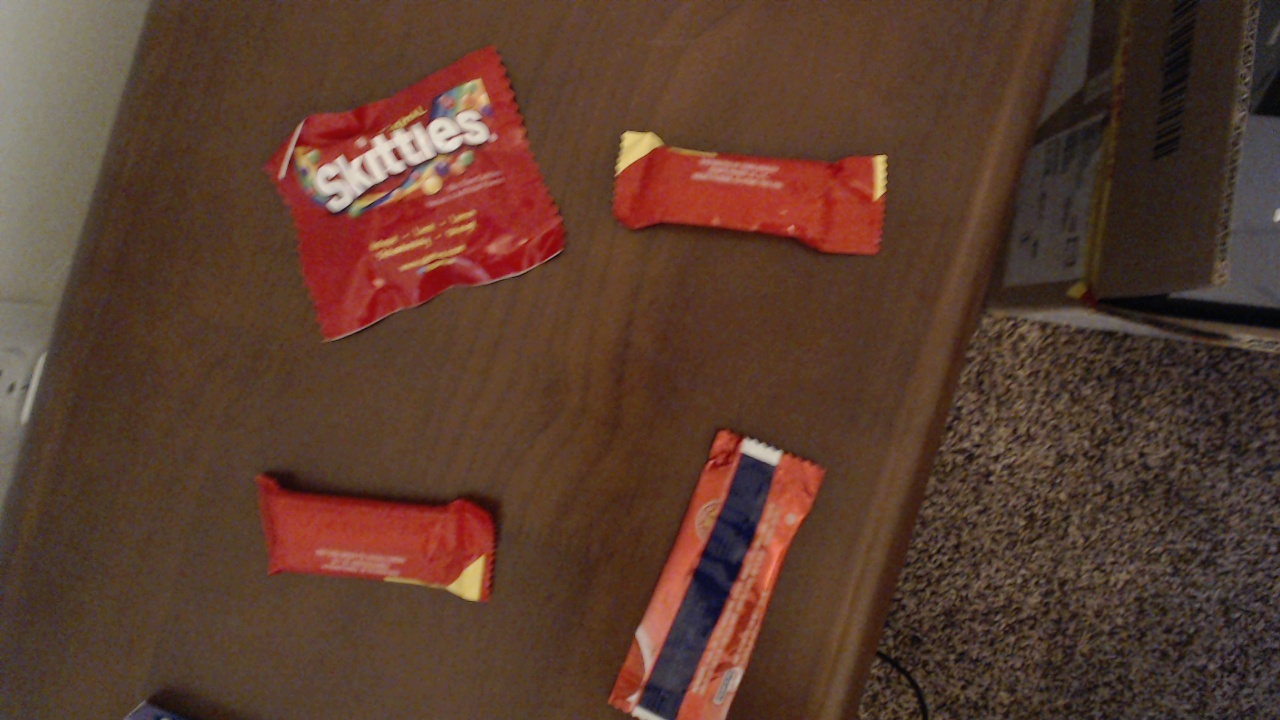airheads: (590, 419, 829, 720)
skittles: (253, 61, 586, 362)
starbust: (223, 461, 534, 622), (610, 114, 910, 267)
